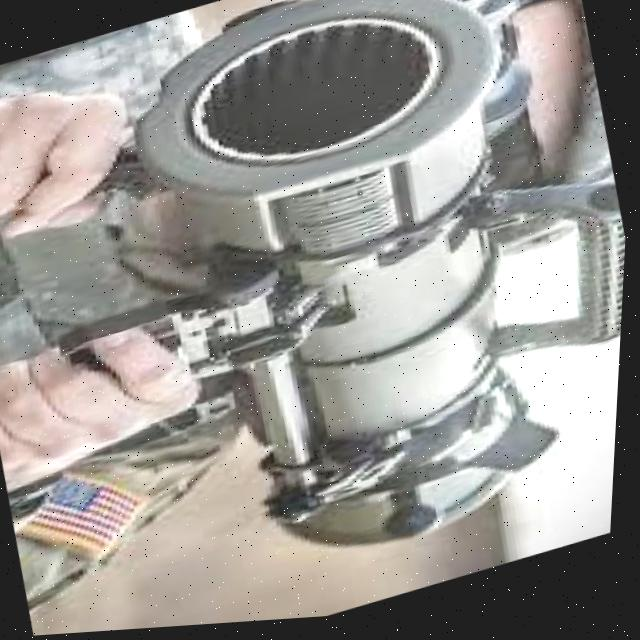rocket: (71, 0, 640, 620)
